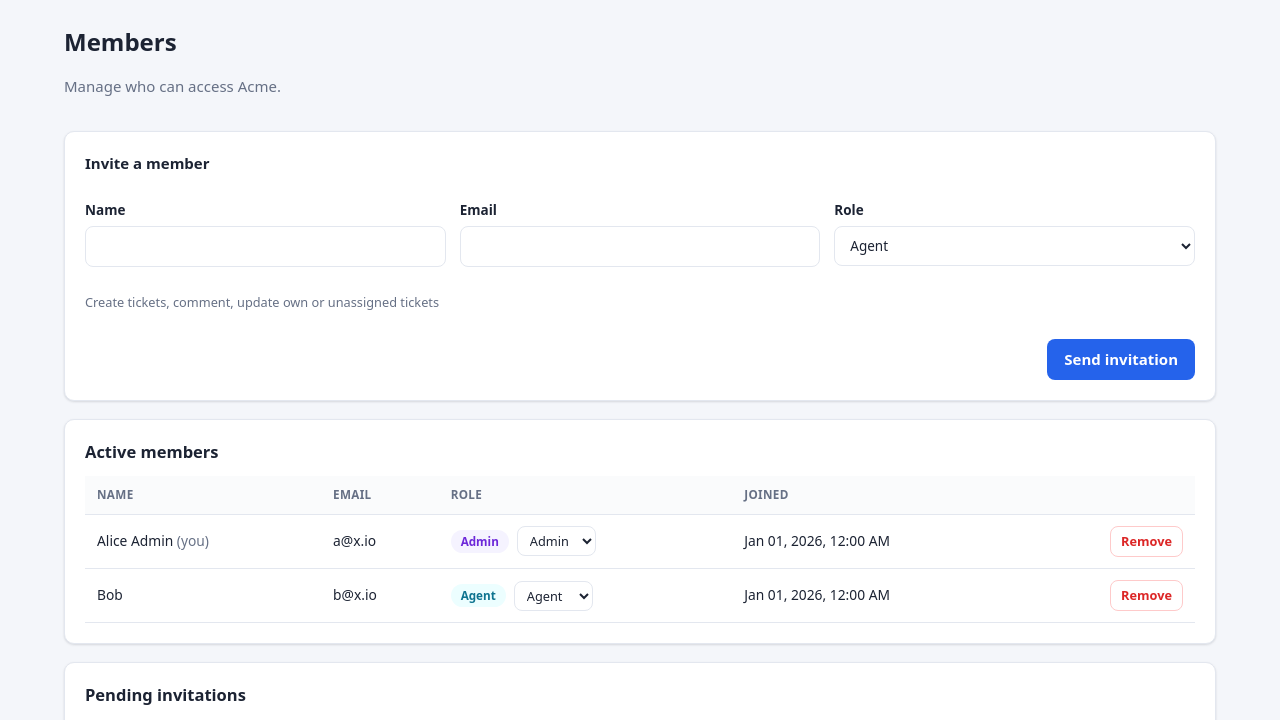
Test case: Members page › shows backend refusals such as LAST_ADMIN
Select "Agent" in the dropdown named "Change role of Alice Admin" at (556, 542), box [517,526,596,556]
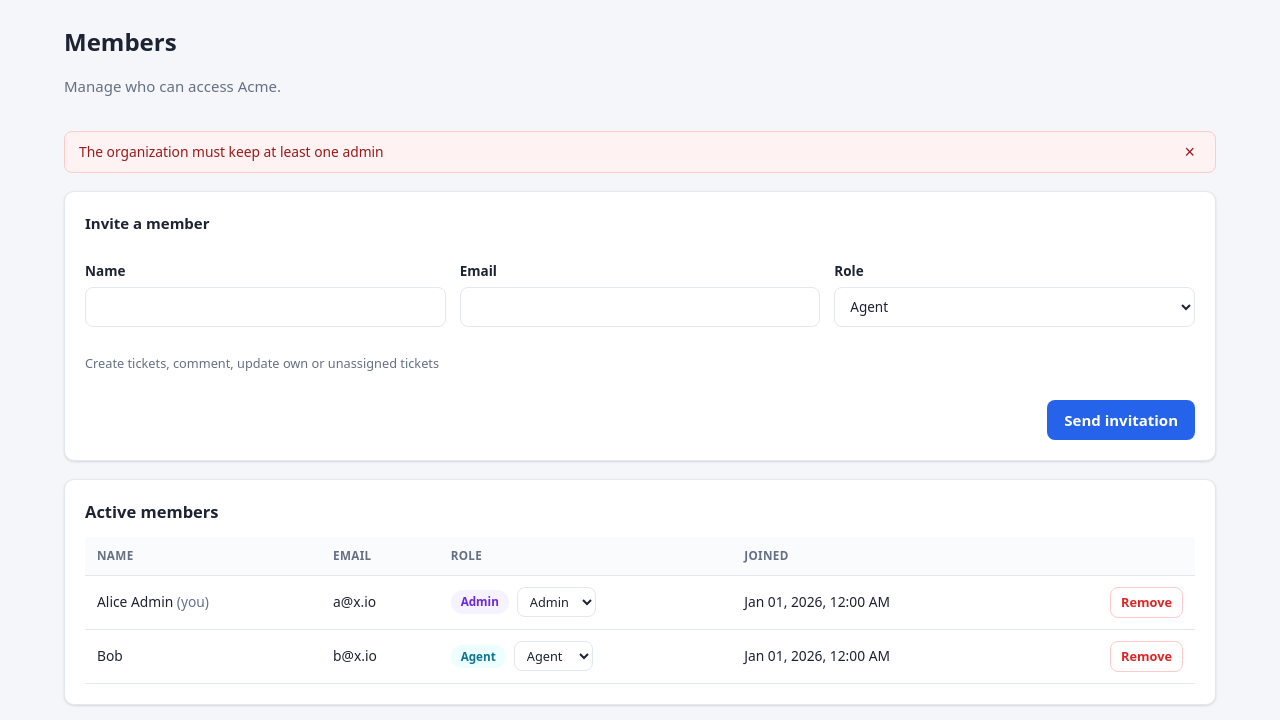
Check: the message shows "at least one admin", box [79,142,384,160]
Click the button named "Dismiss" at (1190, 152), box [1178,142,1201,162]
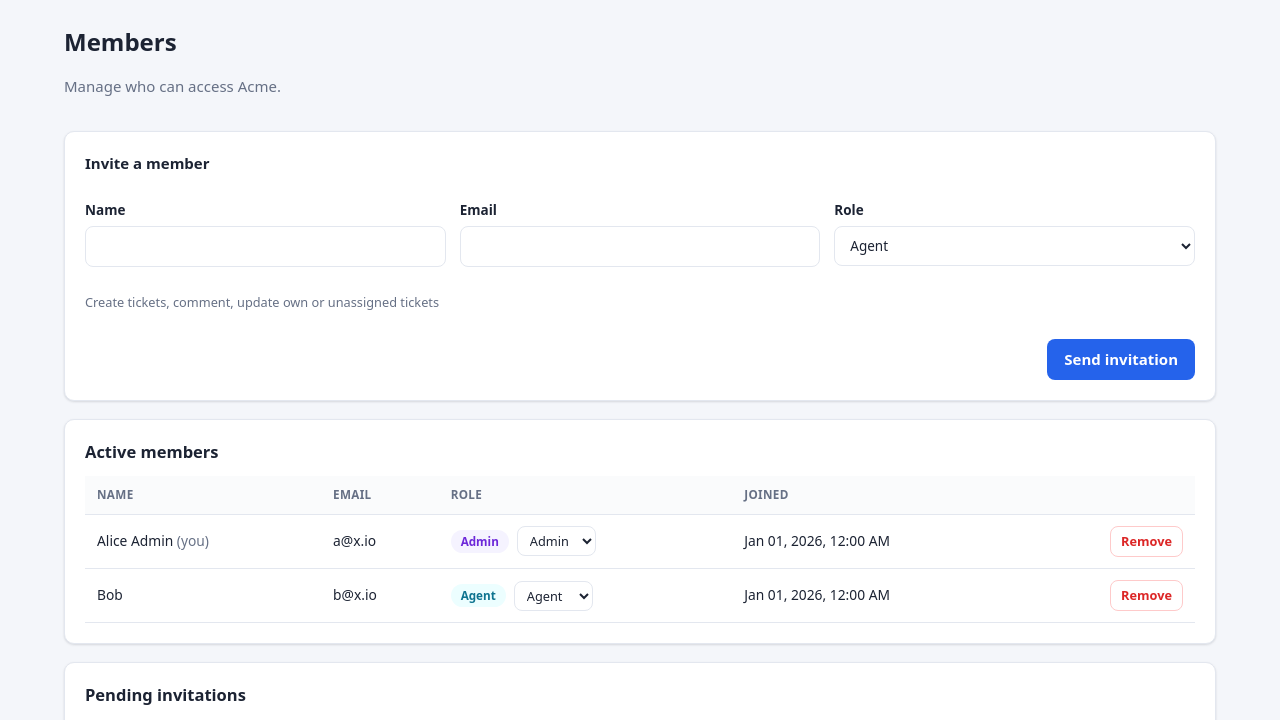
Check: the message "The organization must keep at least one admin ×" is gone
